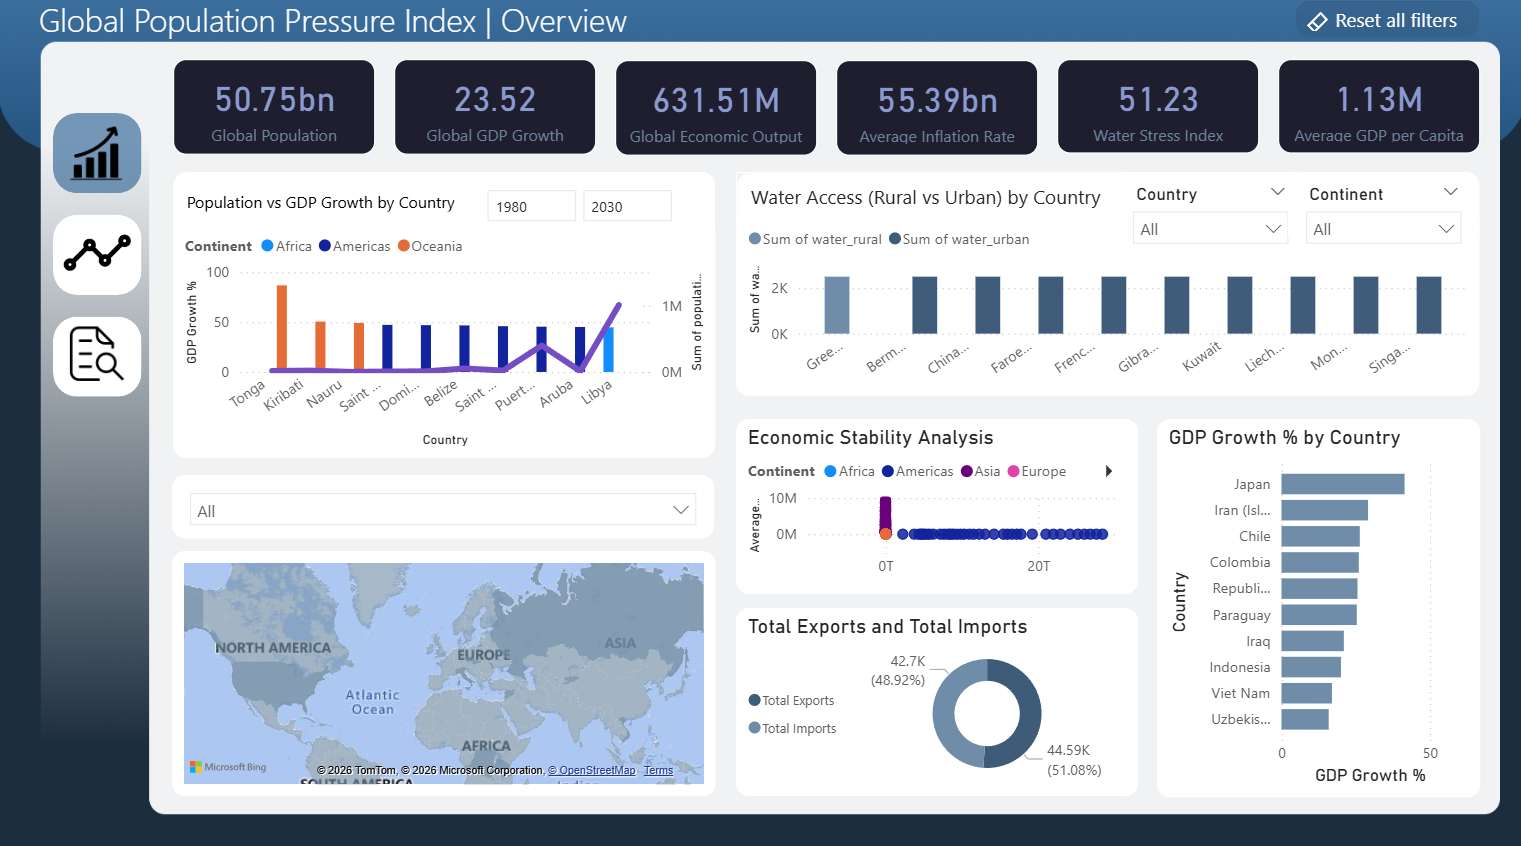

The dashboard page shown, as its layout file describes it:
{"tool":"powerbi","page":{"name":"Overview","canvas":[1280,720],"ordinal":0},"visuals":[{"type":"card","title":"Total Population","fields":{"Values":["fact_population_un.Total Population"]},"box":[147.5,51.8,169,80.2],"z":0},{"type":"card","fields":{"Values":["fact_water_access.Water Stress %"]},"box":[886.1,51.4,169,79.4],"z":1000},{"type":"card","fields":{"Values":["Organizations_Groups.Economic Output"]},"box":[332.1,51.5,169,80],"z":2000},{"type":"donutChart","fields":{"Y":["fact_economics_imf.Total Exports","fact_economics_imf.Total Imports"]},"box":[618.1,510.6,336.4,157.3],"z":3000},{"type":"lineClusteredColumnComboChart","title":"Population vs GDP by Country","fields":{"Category":["Master_Country.Country"],"Y":["fact_economics_imf.GDP Growth %"],"Y2":["Sum(fact_population_un.population)"],"Series":["Countries_Territories.Continent"]},"box":[147.7,183.2,453.2,202.3],"z":4000,"group":"g2"},{"type":"slicer","fields":{"Values":["Master_Country.Country"]},"box":[147.3,399.1,452.7,52.7],"z":5000},{"type":"pageNavigator","box":[47.4,96.6,74.2,239.8],"z":6000},{"type":"filledMap","fields":{"Category":["Master_Country.Country"]},"box":[147.3,462.7,453.6,205.5],"z":7000},{"type":"clusteredColumnChart","title":"Water Access (Rural vs Urban) by Country","fields":{"Category":["Master_Country.Country"],"Y":["Sum(fact_water_access.water_rural)","Sum(fact_water_access.water_urban)"]},"box":[618.4,177.7,621,156.1],"z":8000,"group":"g1"},{"type":"barChart","fields":{"Category":["Master_Country.Country"],"Y":["fact_economics_imf.GDP Growth %"]},"box":[969.5,352.3,269.7,315.5],"z":8000},{"type":"textbox","box":[36,0,635.1,44.7],"z":9000},{"type":"card","fields":{"Values":["Organizations_Groups.Economic Output"]},"box":[516.8,52.5,169,80],"z":10000},{"type":"actionButton","box":[1086.2,3.3,152.9,30.4],"z":11000},{"type":"card","fields":{"Values":["Organizations_Groups.Inflation Pressure"]},"box":[701.4,52.6,169,80],"z":12000},{"type":"scatterChart","title":"Economic Stability Analysis","fields":{"X":["fact_economics_imf.inflation_avg"],"Series":["Countries_Territories.Continent"],"Y":["Avg(fact_economics_imf.gdp_constant)"]},"box":[618.1,352.3,336.4,146.3],"z":13000},{"type":"image","box":[47.3,180,74.5,68.2],"z":14000},{"type":"image","box":[55.5,107.3,57.3,47.3],"z":15000},{"type":"shape","box":[618.2,146.5,331.2,42.4],"z":15000,"group":"g1"},{"type":"textbox","box":[625.8,151.8,302.9,31.8],"z":16000,"group":"g1"},{"type":"image","box":[58.2,259.1,51.8,77.3],"z":16000},{"type":"card","fields":{"Values":["Organizations_Groups.Avg Economic Prosperity"]},"box":[1070.7,51.4,168.7,79.4],"z":17000},{"type":"group","id":"g1","title":"Group 2","box":[618.2,146.5,621.2,187.3],"z":18000},{"type":"shape","box":[147.6,146.5,285.9,46.5],"z":19000,"group":"g2"},{"type":"slicer","fields":{"Values":["fact_economics_imf.year"]},"box":[392.3,146.5,208.2,81.8],"z":20000,"group":"g2"},{"type":"group","id":"g2","title":"Group 1","box":[147.6,146.5,453.3,239],"z":20001},{"type":"slicer","fields":{"Values":["Master_Country.Country"]},"box":[934.7,146.5,160,62.4],"z":21000,"group":"g1"},{"type":"slicer","fields":{"Values":["Countries_Territories.Continent"]},"box":[1079.4,146.5,160,62.4],"z":22000,"group":"g1"}]}

Visuals, with their boxes in screenshot pixels (x1, y1, x2, y2), scaled from the page's 1280x720 canvas onto the 1521x846 screenshot:
"Total Population" card: locate(175, 61, 376, 155)
card - fact_water_access.Water Stress %: locate(1053, 60, 1254, 154)
card - Organizations_Groups.Economic Output: locate(395, 61, 595, 155)
donutChart - fact_economics_imf.Total Exports x fact_economics_imf.Total Imports: locate(734, 600, 1134, 785)
"Population vs GDP by Country" lineClusteredColumnComboChart: locate(176, 215, 714, 453)
slicer - Master_Country.Country: locate(175, 469, 713, 531)
pageNavigator: locate(56, 114, 144, 395)
filledMap - Master_Country.Country: locate(175, 544, 714, 785)
"Water Access (Rural vs Urban) by Country" clusteredColumnChart: locate(735, 209, 1473, 392)
barChart - Master_Country.Country x fact_economics_imf.GDP Growth %: locate(1152, 414, 1473, 785)
textbox: locate(43, 0, 797, 53)
card - Organizations_Groups.Economic Output: locate(614, 62, 815, 156)
actionButton: locate(1291, 4, 1472, 40)
card - Organizations_Groups.Inflation Pressure: locate(833, 62, 1034, 156)
"Economic Stability Analysis" scatterChart: locate(734, 414, 1134, 586)
image: locate(56, 212, 145, 292)
image: locate(66, 126, 134, 182)
shape: locate(735, 172, 1128, 222)
textbox: locate(744, 178, 1104, 216)
image: locate(69, 304, 131, 395)
card - Organizations_Groups.Avg Economic Prosperity: locate(1272, 60, 1473, 154)
"Group 2" group: locate(735, 172, 1473, 392)
shape: locate(175, 172, 515, 227)
slicer - fact_economics_imf.year: locate(466, 172, 714, 268)
"Group 1" group: locate(175, 172, 714, 453)
slicer - Master_Country.Country: locate(1111, 172, 1301, 245)
slicer - Countries_Territories.Continent: locate(1283, 172, 1473, 245)
